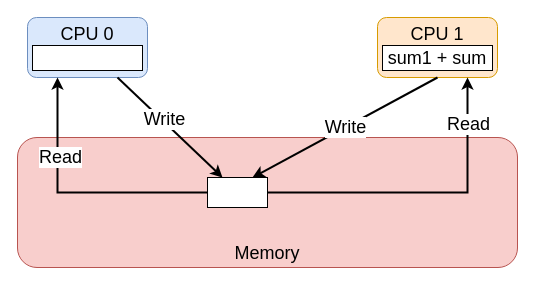
The diagram is 535 pixels wide and 285 high, and some of its shapes have lost their labels. The shapes that lost their labels are listed below. From the top down, each one's box as (x1, y1, x2, y2) in pixels, then its label:
(32, 44, 142, 70): sum0 + sum
(206, 176, 268, 208): sum
